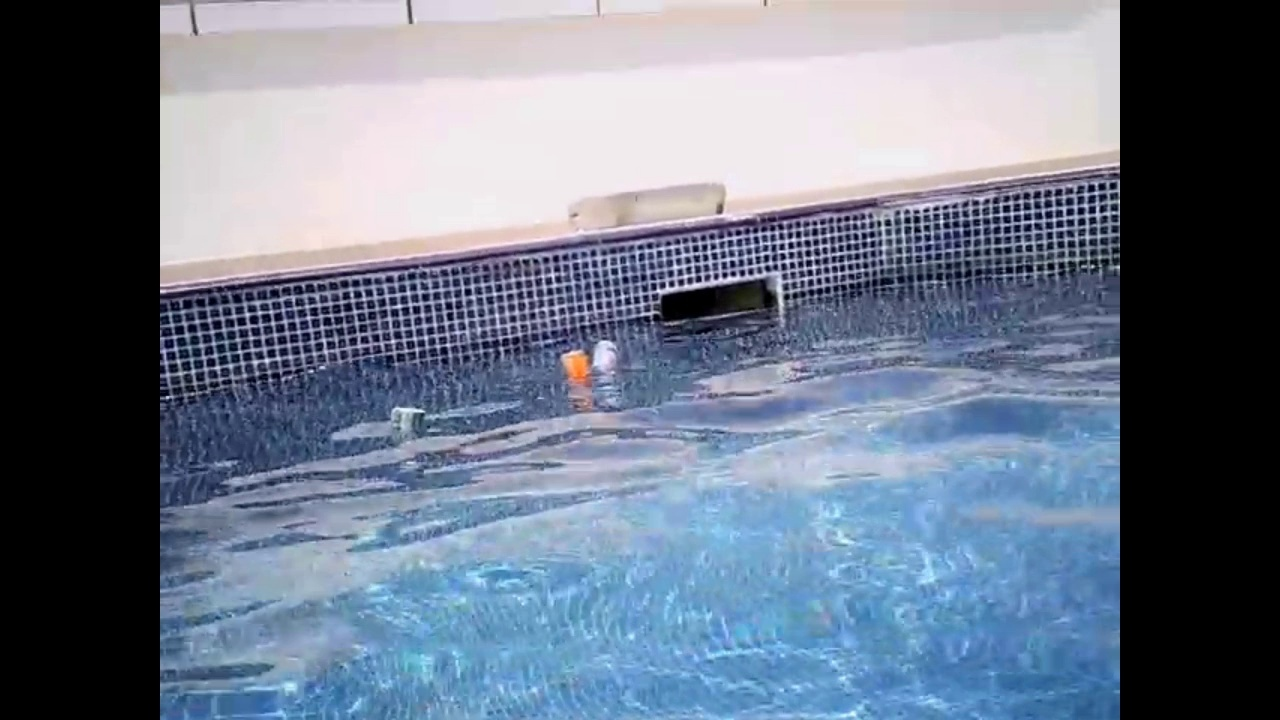debris: (584, 334, 620, 383), (385, 404, 427, 443), (554, 347, 590, 390)
